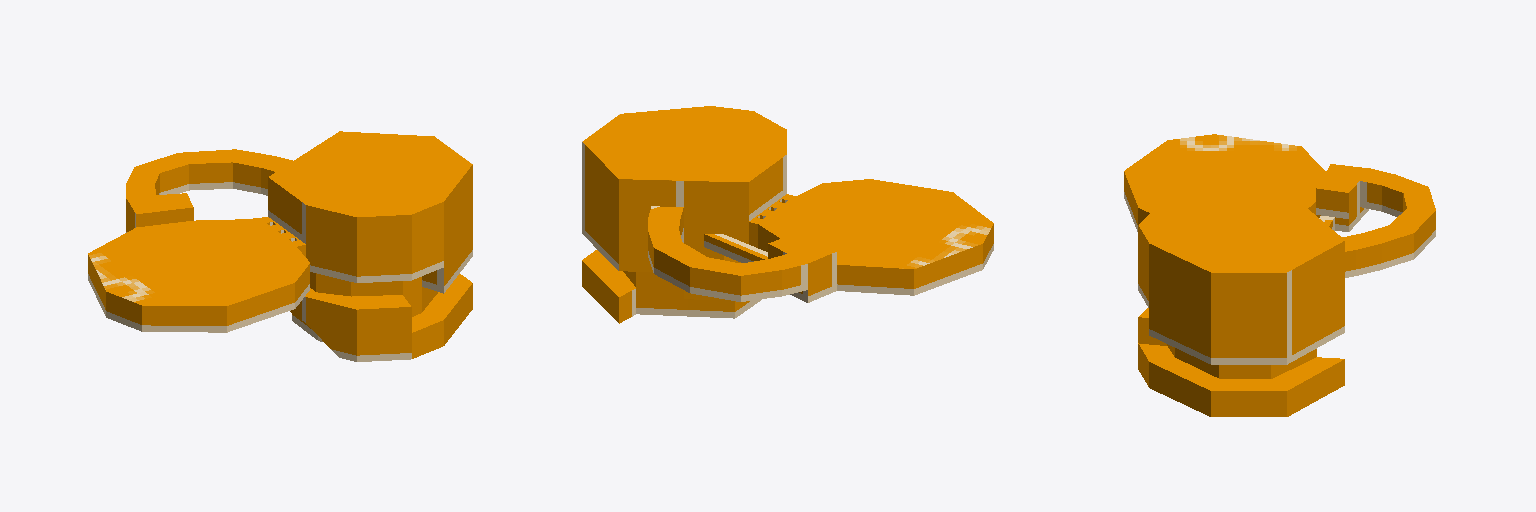
The picture shows the model from 3 angles: view 1: azimuth 30°, elevation 25°; view 2: azimuth 150°, elevation 25°; view 3: azimuth 270°, elevation 25°; orthographic projection.
Visible parts, largest first — view 1: pCube5; view 2: pCube5; view 3: pCube5.
Part boxes in pixels (x1,y1,x2,y2): pCube5: (88, 131, 472, 361); pCube5: (582, 106, 993, 323); pCube5: (1124, 134, 1435, 416).
Bounding box in the file's own units: 29 × 11 × 21.5.
Materials: 1 (1 with a texture image).